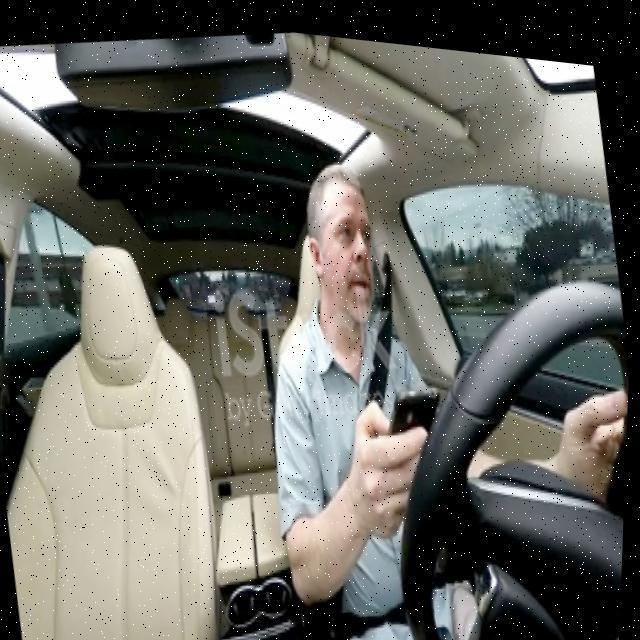PhoneCall: (378, 374, 456, 492)
